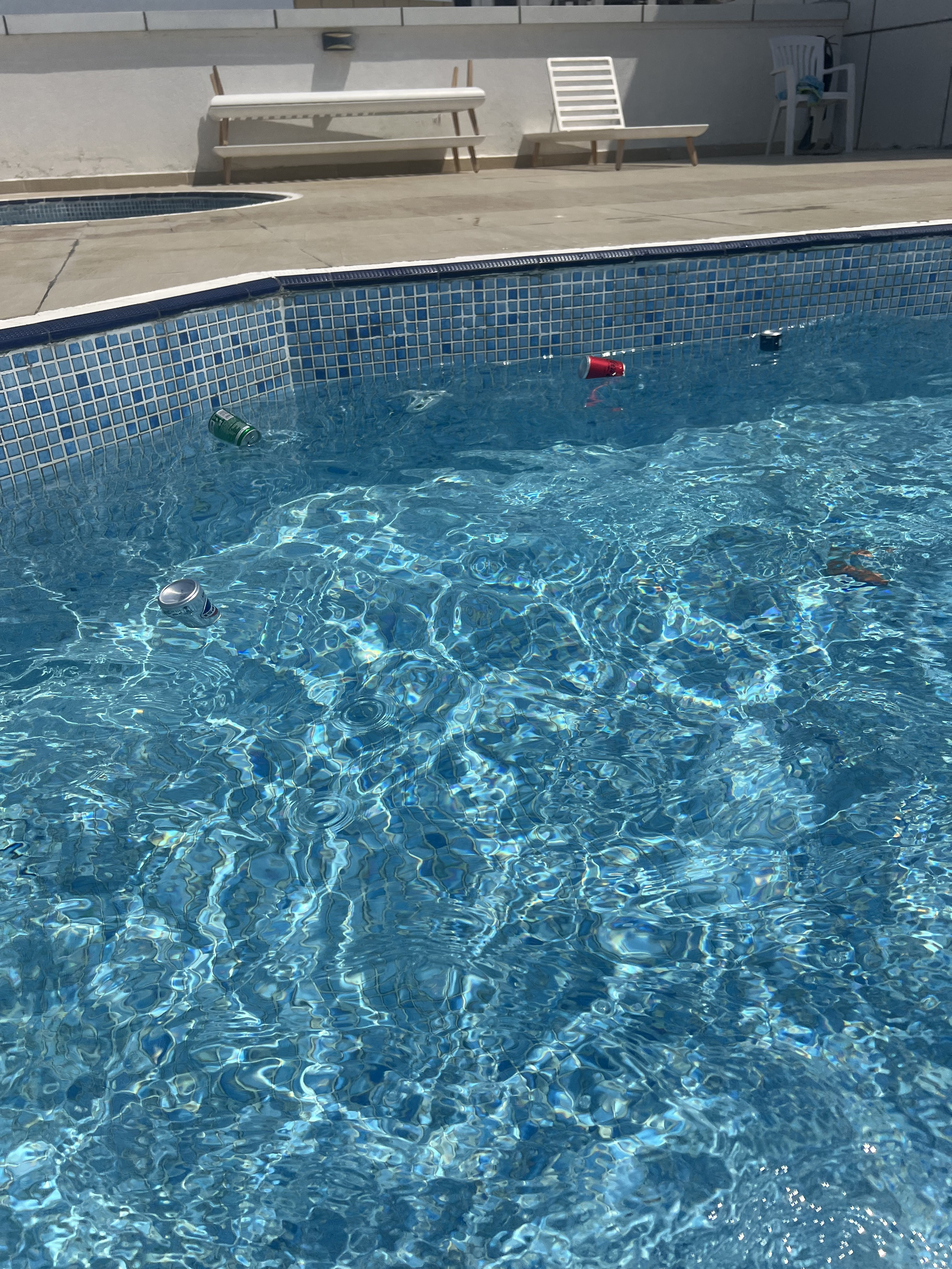debris: (153, 566, 223, 648), (203, 392, 264, 472), (576, 344, 626, 403), (754, 319, 786, 392)
